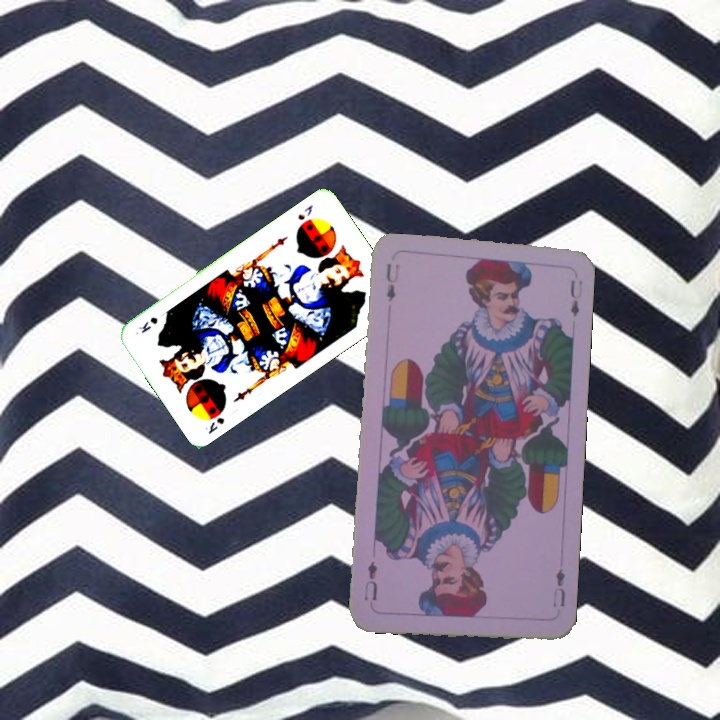EU: (548, 564, 568, 610), (382, 260, 401, 304)
SK: (201, 413, 227, 437), (294, 200, 316, 223)
